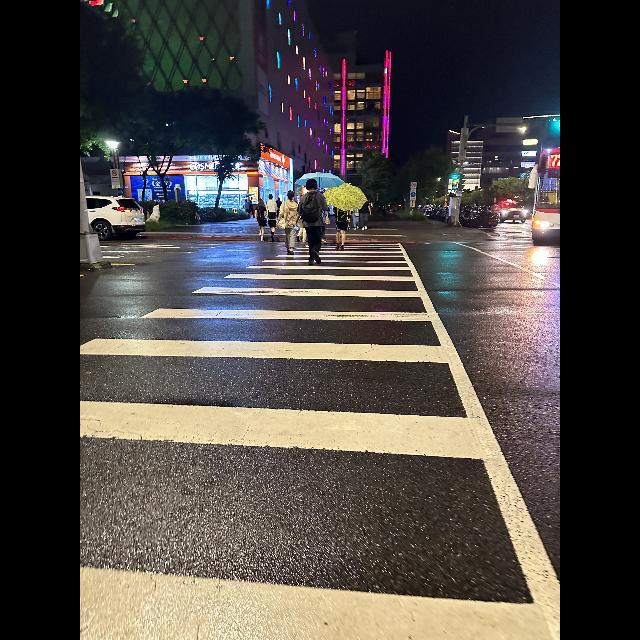sidewalk: (80, 239, 560, 640)
